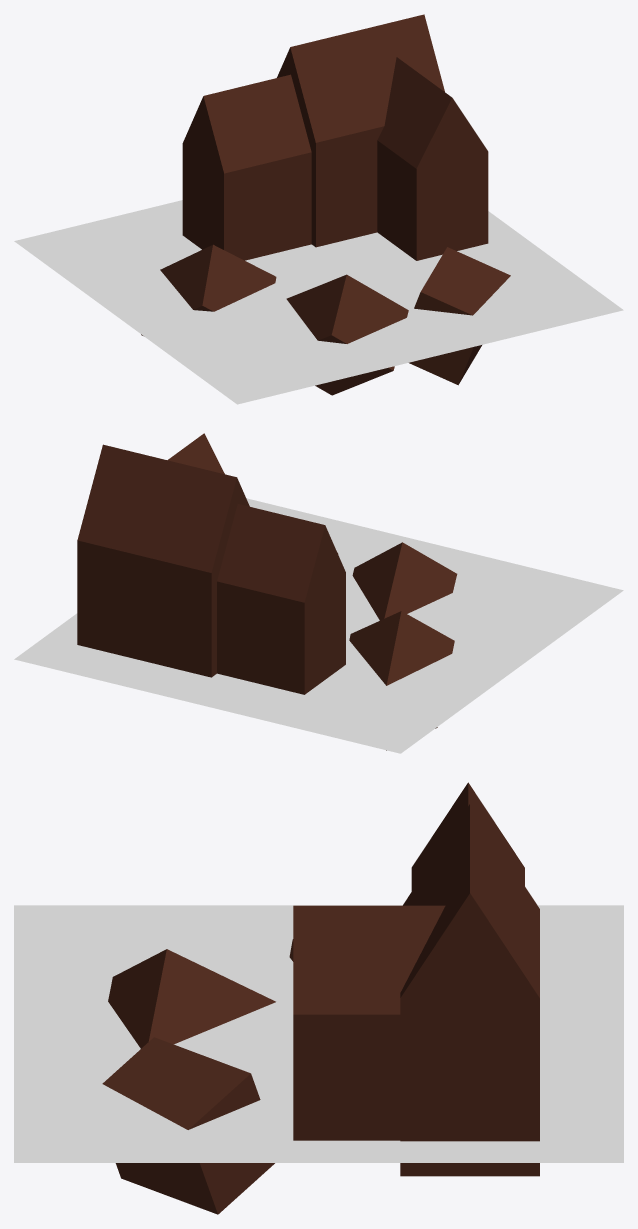
File: Gingerbread_Quarry_Placeholder.fbx
3 renders of one model, top to bottom at view 1: azimuth 30°, elevation 25°; view 2: azimuth 150°, elevation 25°; view 3: azimuth 270°, elevation 25°, orthographic. The views are drawn at different scales.
Visible parts, largest first — view 1: Plane.004, Cube.016, Cube.017, Cube.018, Cube.019, Cube.020, Cube.021; view 2: Plane.004, Cube.017, Cube.016, Cube.019, Cube.021, Cube.018; view 3: Plane.004, Cube.017, Cube.018, Cube.020, Cube.019, Cube.016.
Boxes of the visible parts, <box> form: Plane.004: <box>14,200,623,404</box>; Cube.016: <box>182,74,311,260</box>; Cube.017: <box>277,14,444,247</box>; Cube.018: <box>377,57,488,260</box>; Cube.019: <box>286,274,408,395</box>; Cube.020: <box>409,247,510,385</box>; Cube.021: <box>141,244,276,335</box>; Plane.004: <box>14,498,623,753</box>; Cube.017: <box>77,444,249,677</box>; Cube.016: <box>217,504,345,694</box>; Cube.019: <box>352,542,457,620</box>; Cube.021: <box>349,611,454,750</box>; Cube.018: <box>167,433,224,474</box>; Plane.004: <box>14,905,623,1162</box>; Cube.017: <box>400,804,539,1176</box>; Cube.018: <box>293,905,445,1140</box>; Cube.020: <box>102,1037,274,1214</box>; Cube.019: <box>108,949,275,1048</box>; Cube.016: <box>411,782,524,891</box>.
Bounding box in the file's own units: 82.96 × 54.94 × 82.96.
